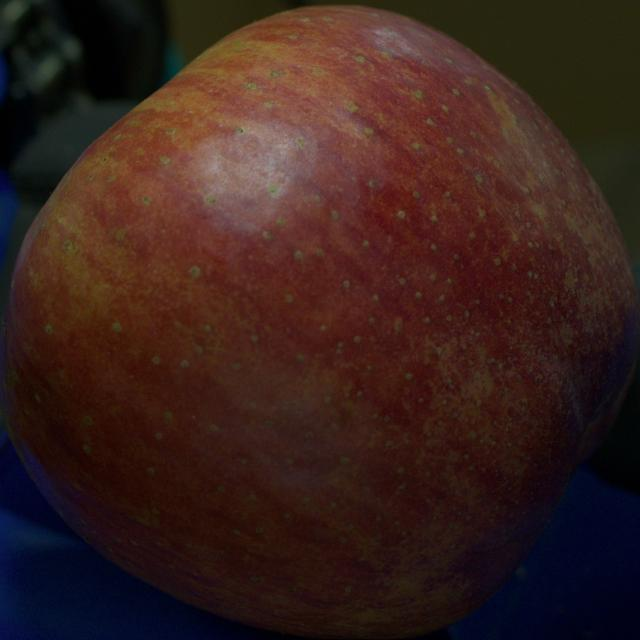apple: (0, 6, 639, 639)
